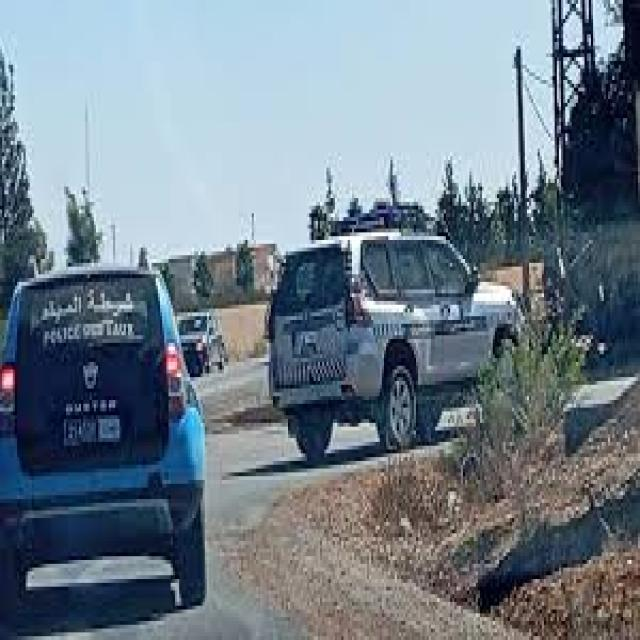gendarme car: (259, 192, 539, 463)
